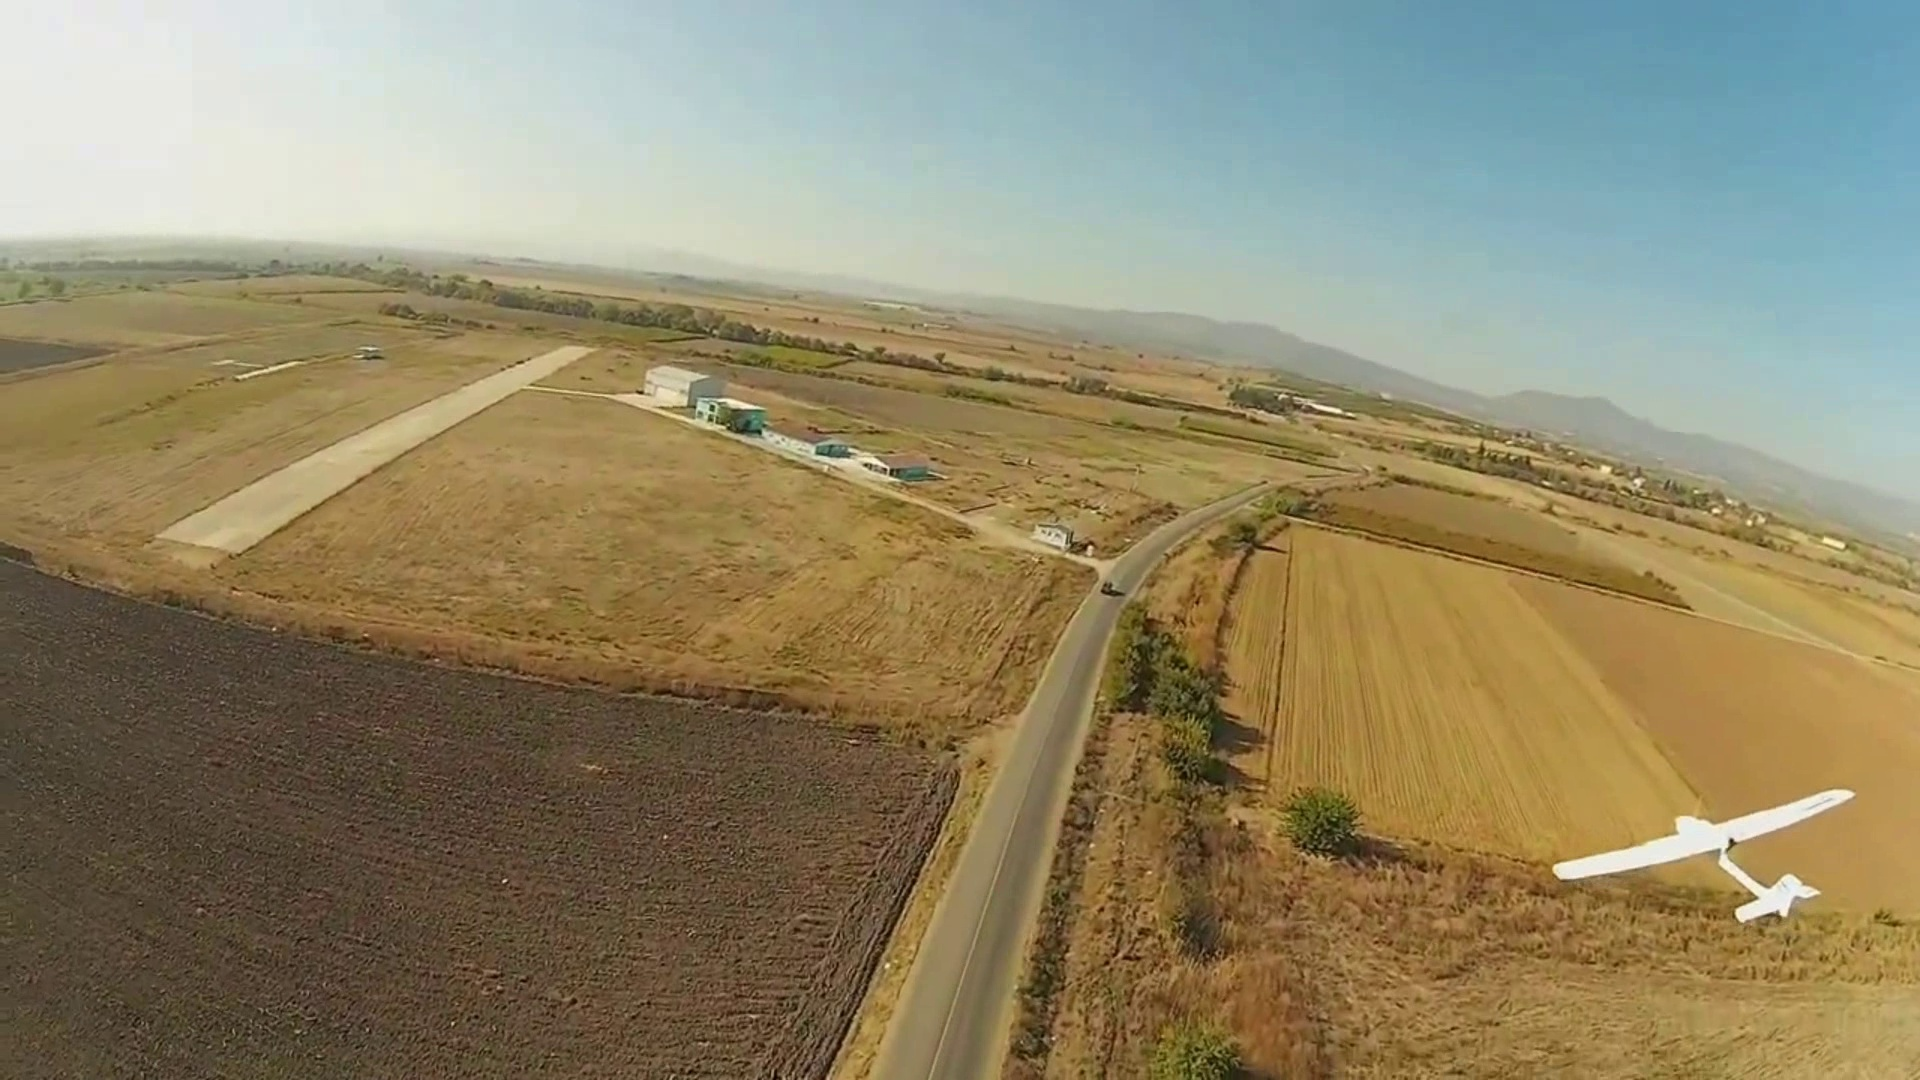airplane: (1552, 787, 1855, 928)
